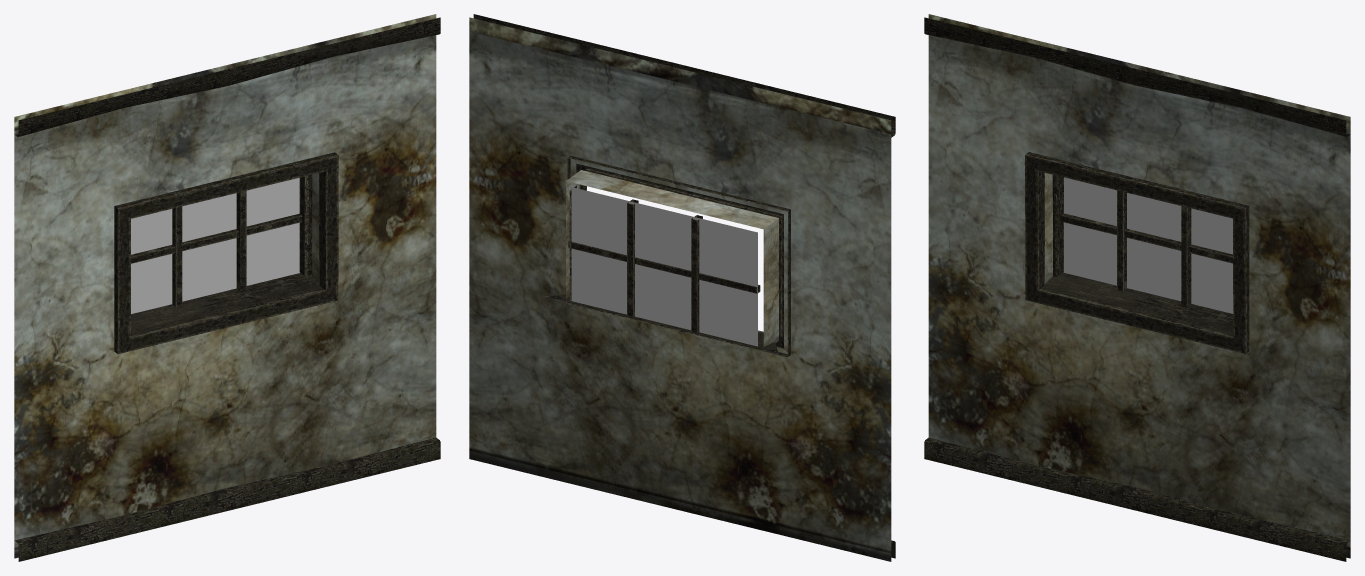
The model's file is cellar_wall_03_win_unlit.DAE.
3 views of the same model, side by side, from view 1: azimuth 30°, elevation 25°; view 2: azimuth 150°, elevation 25°; view 3: azimuth 330°, elevation 25° (orthographic).
Visible parts, largest first — view 1: Box036, Object013, Box037, Plane003; view 2: Box036, Plane003, Object013, Box037; view 3: Box036, Object013, Box037, Plane003.
Part boxes in pixels (x1,y1,x2,y2): Box036: (14,14,436,558); Object013: (114,152,338,354); Box037: (14,17,440,561); Plane003: (131,177,299,313); Box036: (469,17,891,561); Plane003: (570,186,757,346); Object013: (545,155,790,357); Box037: (473,14,895,558); Box036: (928,14,1350,558); Object013: (1025,152,1249,353); Box037: (924,17,1350,561); Plane003: (1063,177,1233,313).
Bounding box in the file's own units: 4 × 4 × 0.3983.
